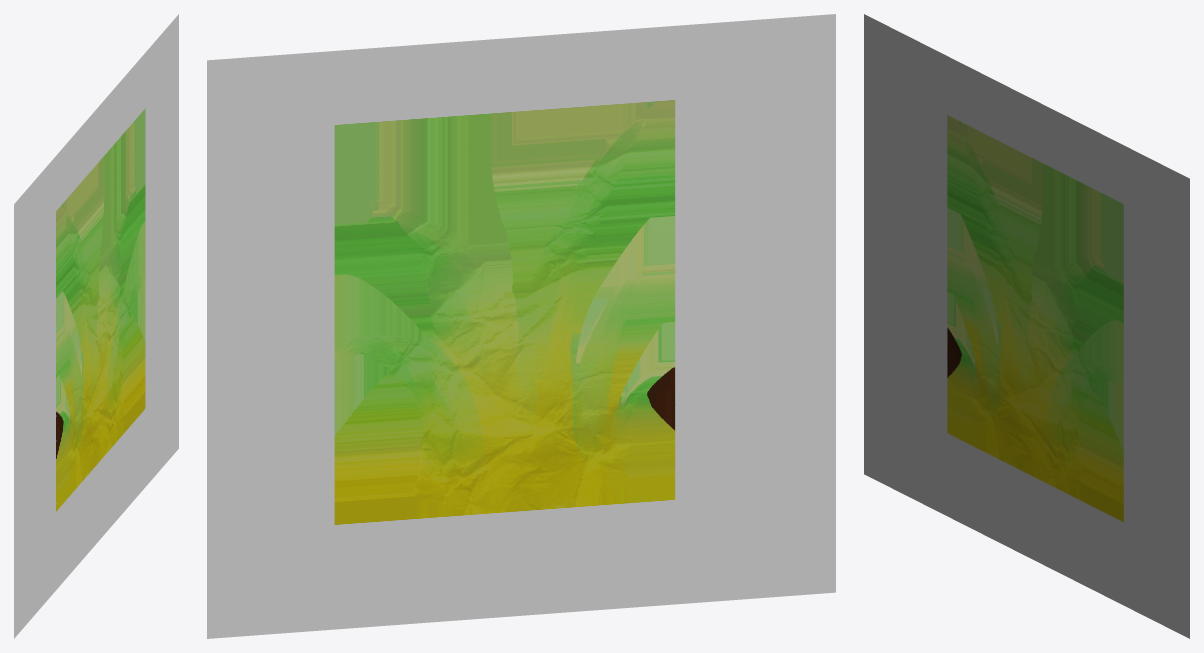
File: GB_Plant_02.fbx
The picture shows the model from 3 angles, left to right: view 1: azimuth 30°, elevation 25°; view 2: azimuth 150°, elevation 25°; view 3: azimuth 270°, elevation 25°; orthographic projection. The views are drawn at different scales.
Parts seen in each view (by area): view 1: Play_04; view 2: Play_04; view 3: Play_04.
Boxes of the visible parts, x1,y1,x2,y2 form: Play_04: (14,14,178,638); Play_04: (207,14,835,638); Play_04: (864,14,1189,638).
Size of the model in its own units: 107 by 140 by 89.59.
